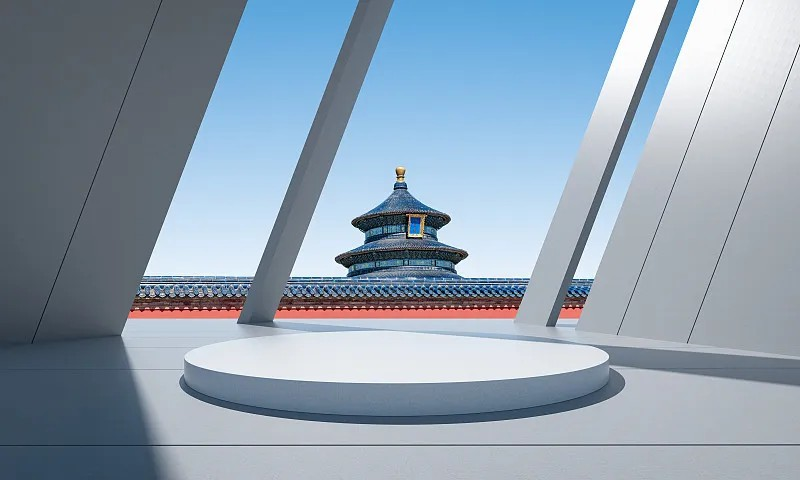Heaven: (333, 165, 468, 277)
